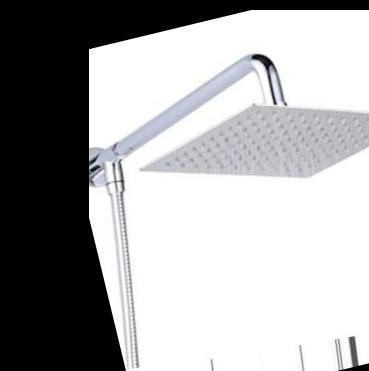Ducha: (60, 14, 369, 359)
